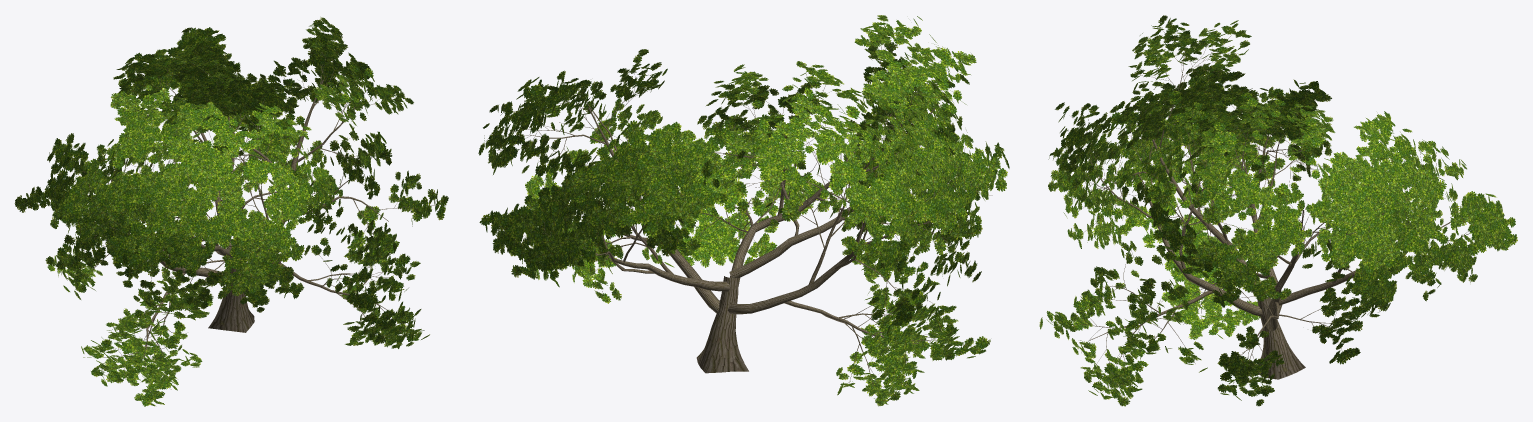
The model's file is tree-oak-wide.glb.
3 views of the same model, side by side, from view 1: azimuth 30°, elevation 25°; view 2: azimuth 150°, elevation 25°; view 3: azimuth 270°, elevation 25° (orthographic). The views are drawn at different scales.
Parts seen in each view (by area): view 1: leaves, bark; view 2: leaves, bark; view 3: leaves, bark.
Part boxes in pixels (bbox=[...]): leaves: bbox=[14, 17, 448, 406]; bark: bbox=[24, 31, 436, 402]; leaves: bbox=[478, 15, 1009, 406]; bark: bbox=[489, 28, 1000, 393]; leaves: bbox=[1039, 15, 1517, 406]; bark: bbox=[1052, 29, 1489, 396].
Size of the model in its own units: 18.91 by 13.85 by 18.93.
2 materials, 2 textured.
